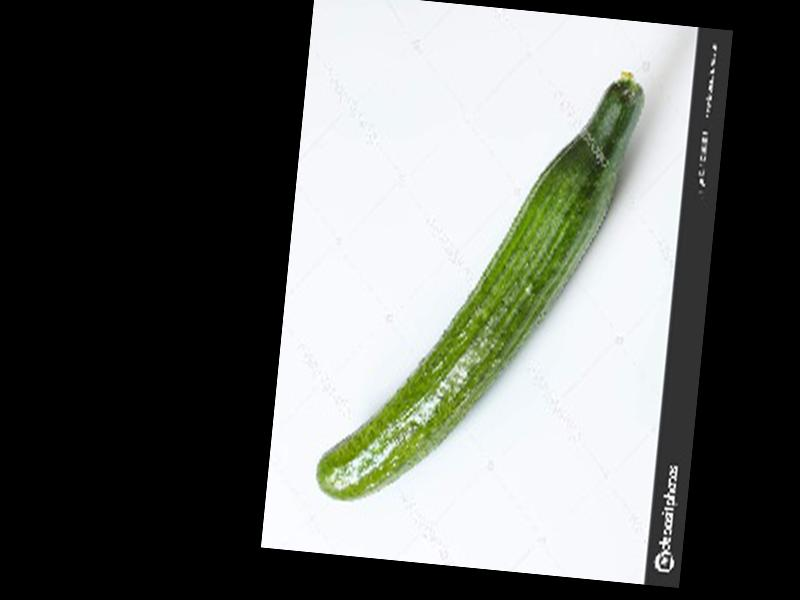Cucumber: (314, 45, 643, 522)
